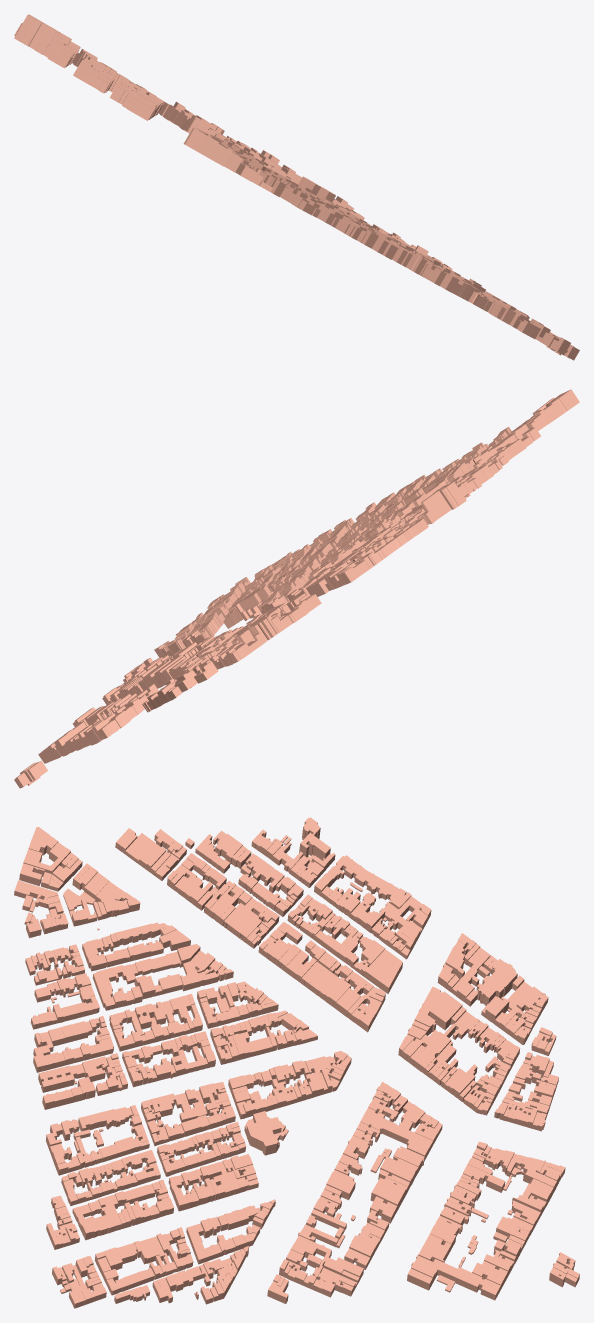
3 views of the same model, one above another, from view 1: azimuth 30°, elevation 25°; view 2: azimuth 150°, elevation 25°; view 3: azimuth 270°, elevation 25° (orthographic). The views are drawn at different scales.
Size of the model in its own units: 519 by 405 by 657.
